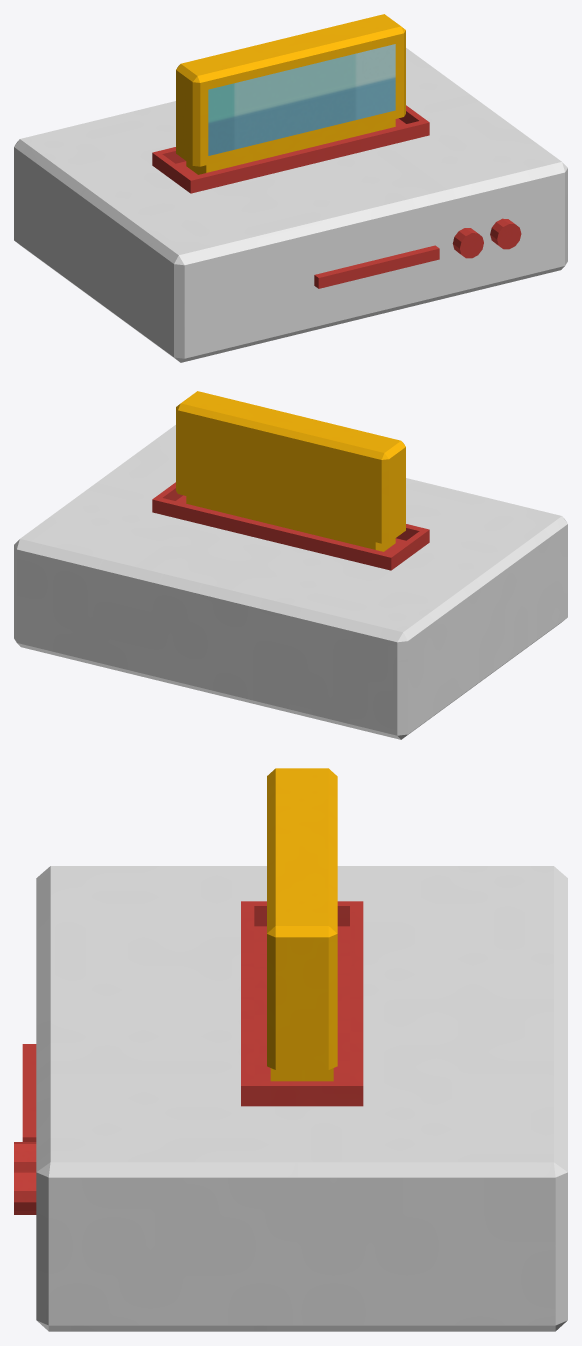
File: Console_1.fbx
The picture shows the model from 3 angles, top to bottom: view 1: azimuth 30°, elevation 25°; view 2: azimuth 150°, elevation 25°; view 3: azimuth 270°, elevation 25°; orthographic projection. The views are drawn at different scales.
Parts seen in each view (by area): view 1: Console_1; view 2: Console_1; view 3: Console_1.
Boxes of the visible parts, box(x1,y1,x2,y2) form: Console_1: box(14, 14, 567, 362); Console_1: box(14, 391, 567, 739); Console_1: box(14, 768, 567, 1331).
Size of the model in its own units: 0.5727 by 0.2958 by 0.4403.
